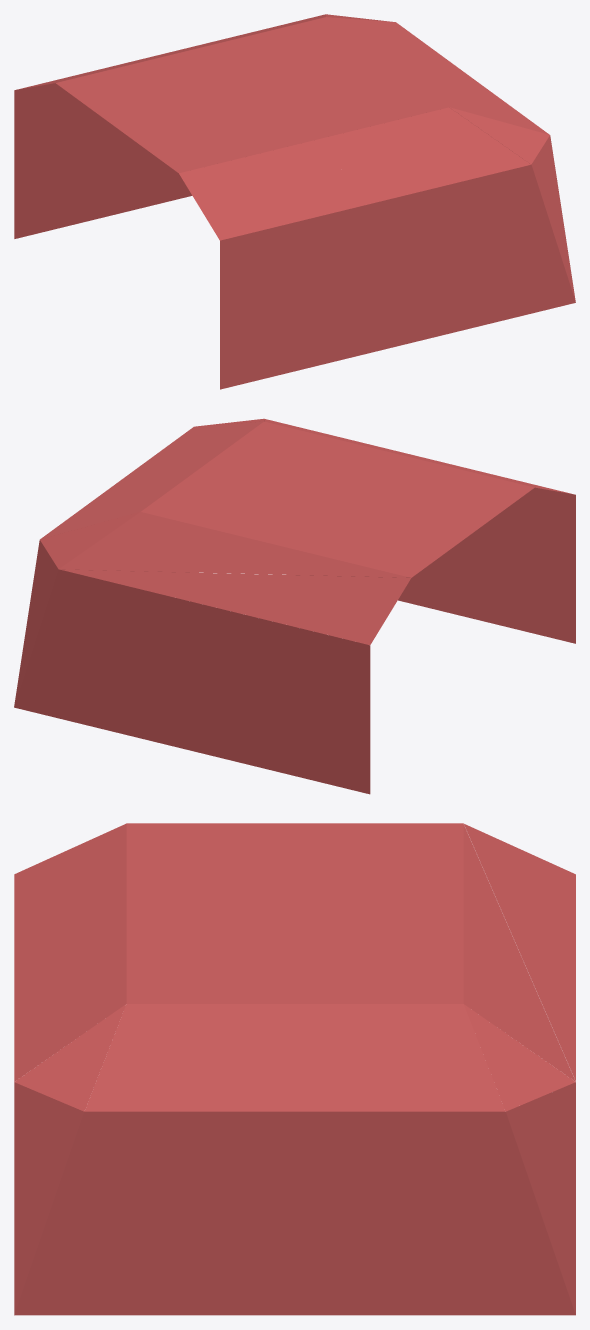
File: objcol_bk_dossunbar_l.glb
The picture shows the model from 3 angles, top to bottom: view 1: azimuth 30°, elevation 25°; view 2: azimuth 150°, elevation 25°; view 3: azimuth 270°, elevation 25°; orthographic projection. The views are drawn at different scales.
Parts seen in each view (by area): view 1: bk_dossunbar_l_col; view 2: bk_dossunbar_l_col; view 3: bk_dossunbar_l_col.
Boxes of the visible parts, box(x1,y1,x2,y2) form: bk_dossunbar_l_col: box(14, 14, 575, 389); bk_dossunbar_l_col: box(14, 418, 575, 794); bk_dossunbar_l_col: box(14, 823, 575, 1315).
Size of the model in its own units: 0.5007 by 0.2502 by 0.5002.
